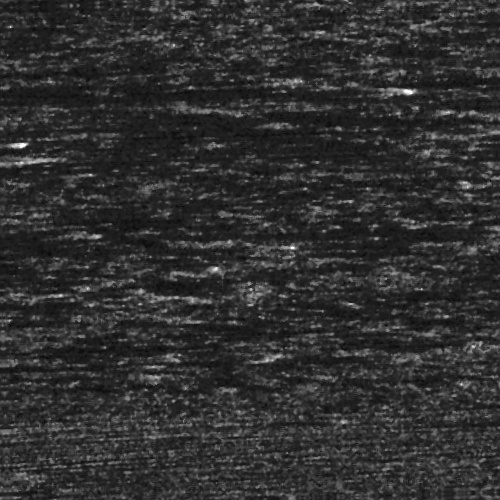object: (1, 141, 84, 158), (50, 291, 155, 302), (338, 85, 431, 96), (240, 241, 345, 250), (88, 367, 171, 372), (223, 76, 286, 81), (109, 358, 150, 363), (450, 179, 500, 182)
shadow: (127, 85, 385, 96), (36, 241, 292, 250), (28, 232, 500, 235), (0, 291, 102, 302), (0, 141, 43, 158), (0, 367, 129, 372), (399, 426, 500, 431), (168, 76, 254, 81), (43, 358, 129, 363), (398, 179, 482, 182), (0, 132, 10, 135)
